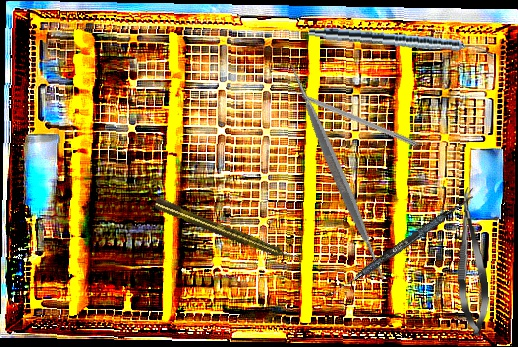Chopper: (281, 77, 421, 148)
Handpiece: (151, 195, 301, 267), (306, 24, 495, 59)
Micro Scissor: (451, 186, 492, 337)
Spatula Surgical: (217, 51, 458, 291), (325, 190, 475, 304)
